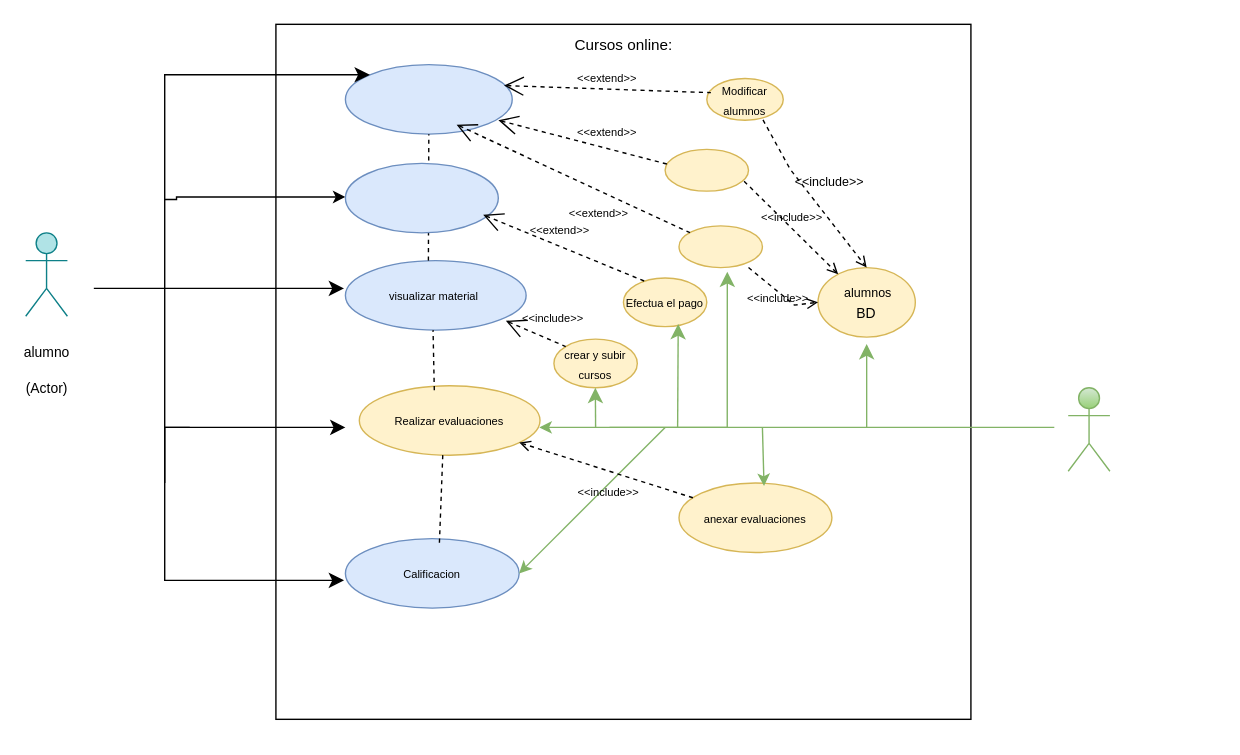
Image size: 1240x755. Some labels were removed from this diagram. The shapes that lost their labels are listed below. From the top down, each one's centre as x and y in pixels, then its label:
(428,98): Inscribe
(706,169): Eliminar alumnos
(421,197): Realiza el pago
(720,246): Registrar alumno
(1088,428): profesor administrador (Actor)
